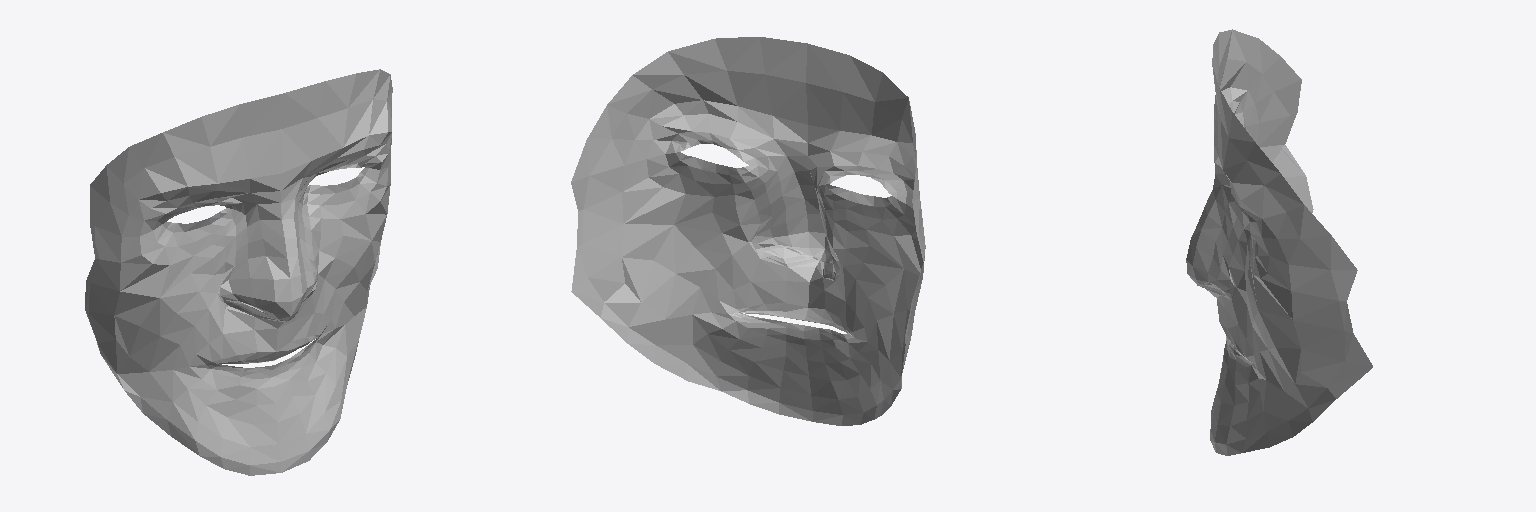
File: dude.obj
3 views of the same model, side by side, from view 1: azimuth 30°, elevation 25°; view 2: azimuth 150°, elevation 25°; view 3: azimuth 270°, elevation 25° (orthographic).
Visible parts, largest first — view 1: MyMesh; view 2: MyMesh; view 3: MyMesh.
Part boxes in pixels (x1,y1,x2,y2): MyMesh: (85, 69, 392, 475); MyMesh: (571, 37, 925, 425); MyMesh: (1186, 29, 1372, 455).
Size of the model in its own units: 0.4798 by 0.548 by 0.2463.